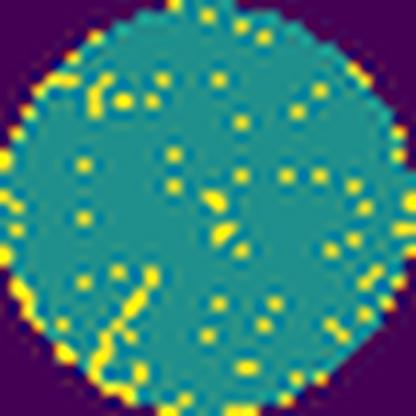Scratch: (85, 262, 165, 385)
